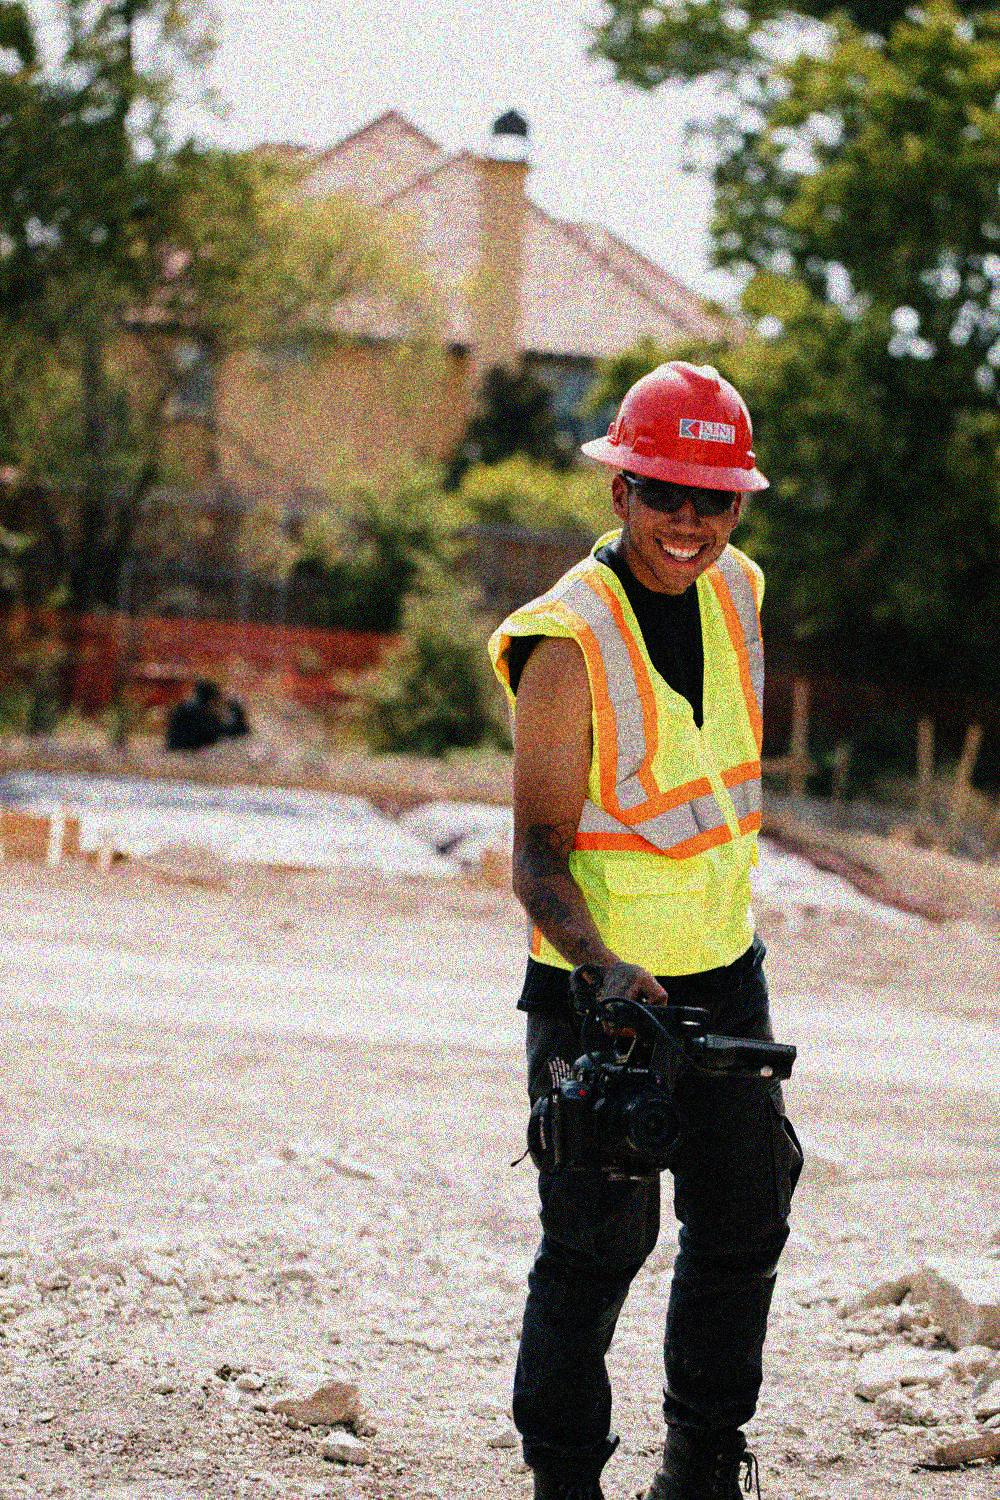helmet: (574, 354, 772, 604)
